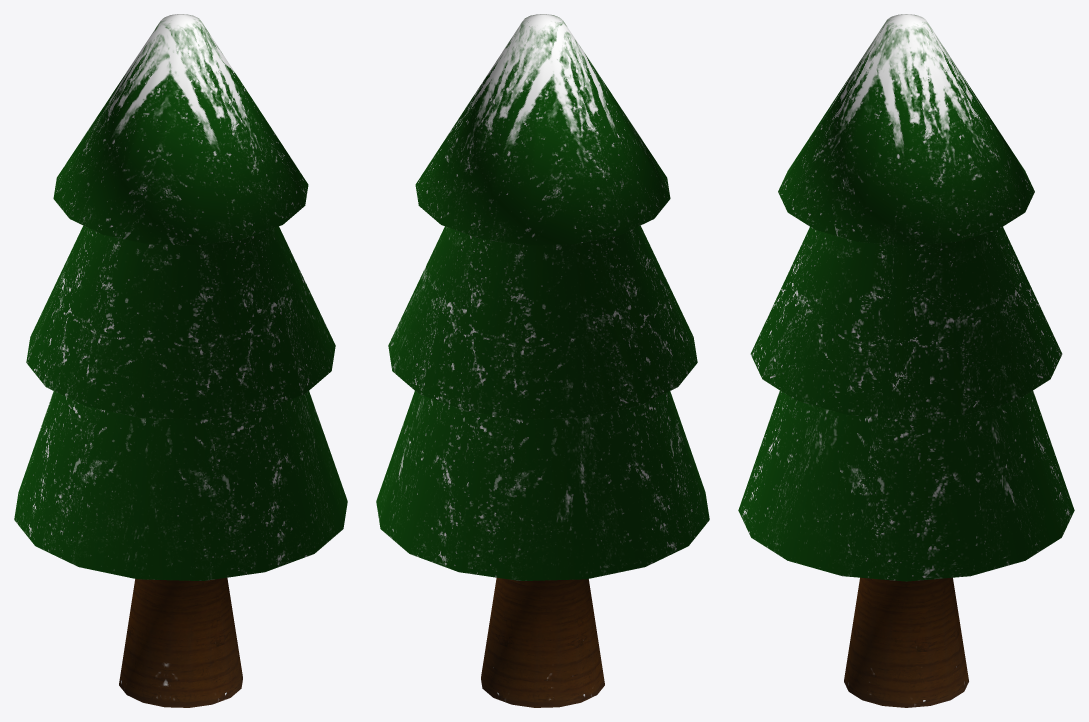
The model's file is evergreen.fbx.
3 renders of one model, left to right at view 1: azimuth 30°, elevation 25°; view 2: azimuth 150°, elevation 25°; view 3: azimuth 270°, elevation 25°, orthographic.
Parts seen in each view (by area): view 1: Cylinder011; view 2: Cylinder011; view 3: Cylinder011.
Part boxes in pixels (x1=…): Cylinder011: x1=14, y1=14, x2=347, y2=707; Cylinder011: x1=376, y1=14, x2=709, y2=707; Cylinder011: x1=738, y1=14, x2=1074, y2=707.
Bounding box in the file's own units: 32.38 × 70.82 × 32.38.
